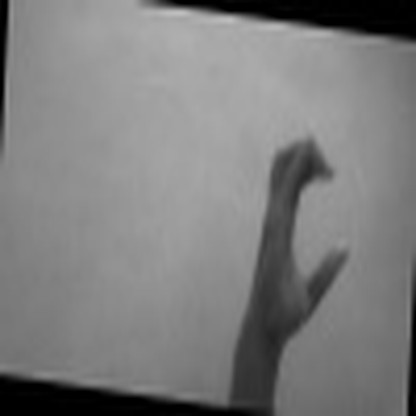c: (251, 125, 354, 332)
